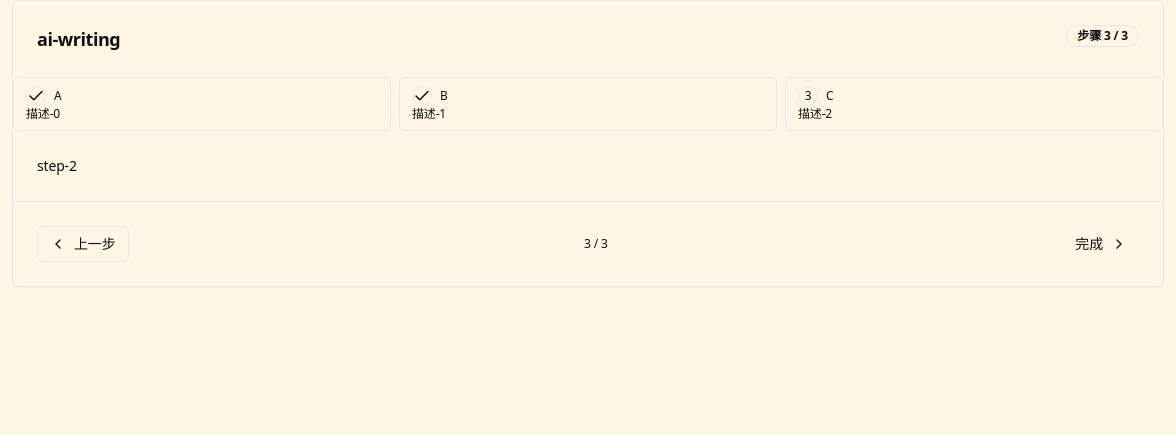
Test: Wizard — 步骤导航 › 末步「下一步」按钮文本变成「完成」，点击后进入已完成视图
Click the button "完成". click: x=1101, y=244
box: [1063, 226, 1139, 262]
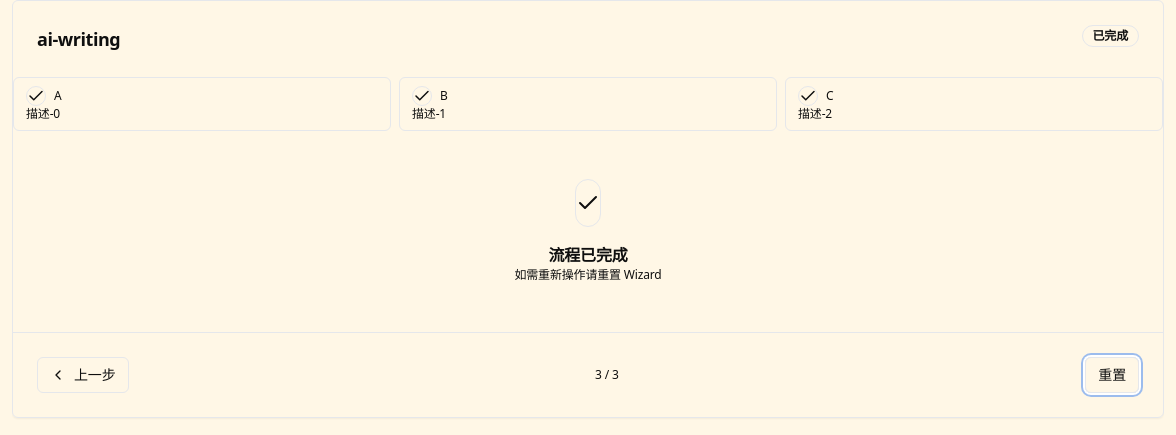
Expected: the text "已完成" is shown, [1082, 25, 1139, 47]
Expected: the text "流程已完成" is shown, [548, 244, 628, 266]
Expected: the button "重置" is shown, [1085, 357, 1139, 393]
